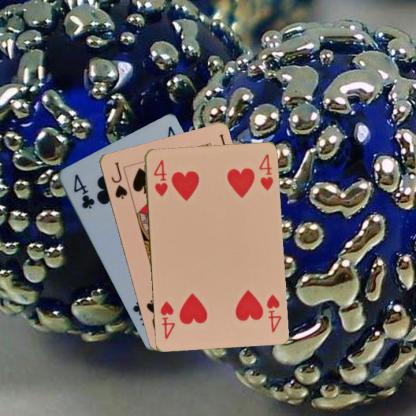4c: (70, 171, 96, 210)
4h: (150, 157, 169, 198), (264, 291, 282, 333)
Js: (108, 159, 128, 200)
